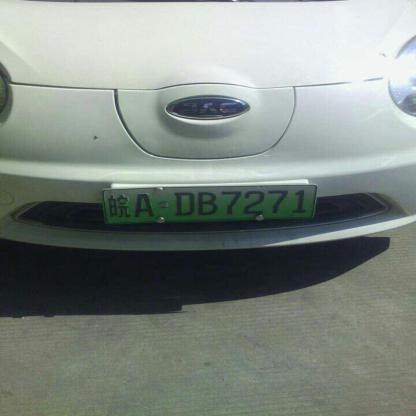lp: (102, 185, 316, 223)
